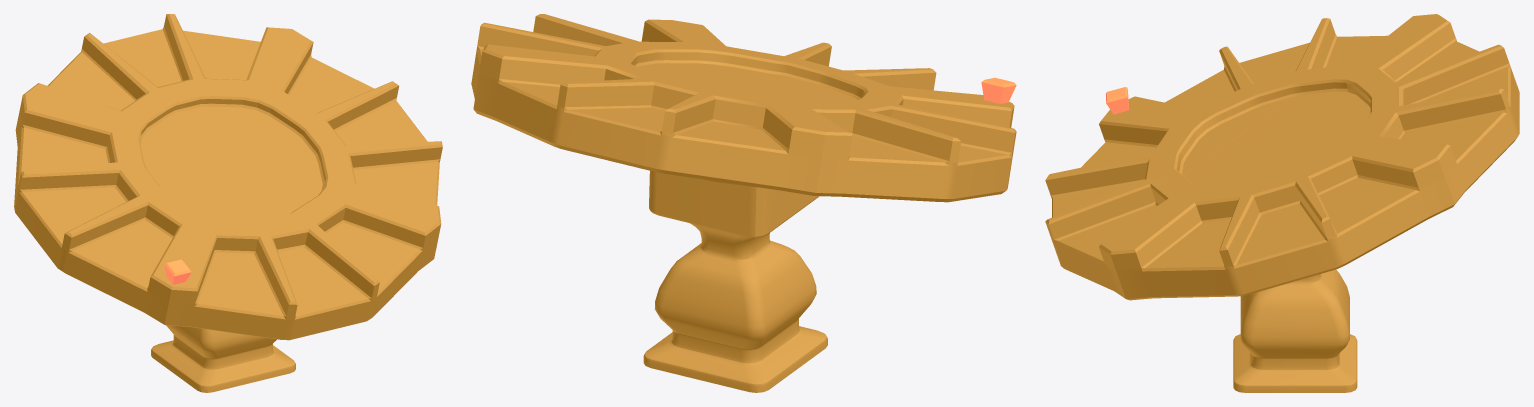
Rendered from Platform.fbx.
The picture shows the model from 3 angles, left to right: view 1: azimuth 30°, elevation 25°; view 2: azimuth 150°, elevation 25°; view 3: azimuth 270°, elevation 25°; orthographic projection. The views are drawn at different scales.
Visible parts, largest first — view 1: Platform, pCylinder1, Handle2; view 2: Platform, pCylinder1, Handle2; view 3: Platform, pCylinder1, Handle2.
Boxes of the visible parts, box(x1,y1,x2,y2) form: Platform: box(14, 14, 442, 340); pCylinder1: box(151, 325, 295, 392); Handle2: box(164, 259, 191, 284); Platform: box(471, 14, 1016, 202); pCylinder1: box(643, 171, 827, 392); Handle2: box(981, 77, 1016, 103); Platform: box(1045, 14, 1519, 300); pCylinder1: box(1233, 269, 1357, 392); Handle2: box(1106, 87, 1128, 114).
Size of the model in its own units: 6.79 by 4.66 by 6.7.
